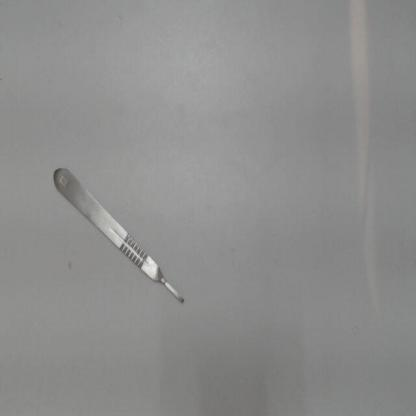No.3 BP Handle: (43, 155, 189, 310)
